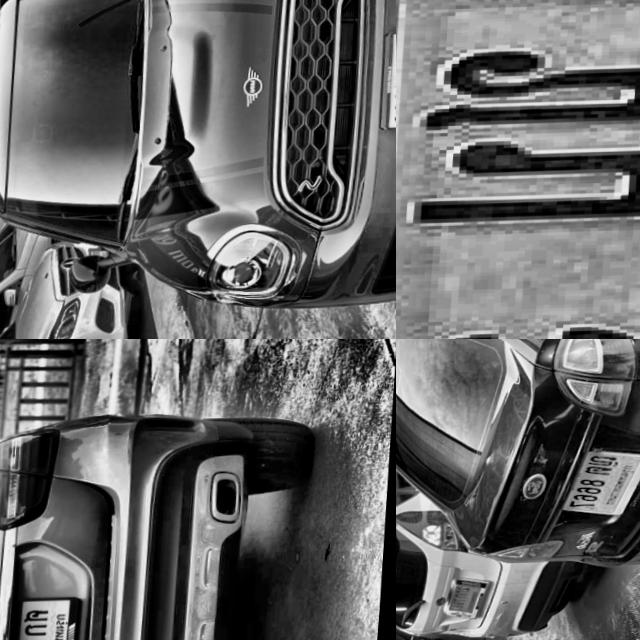license-plate: (396, 0, 640, 339), (562, 445, 640, 518), (10, 595, 87, 640), (379, 28, 396, 130)
